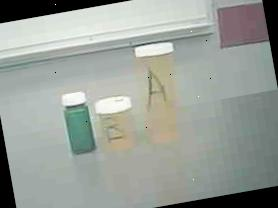Bottle A: (128, 34, 192, 148)
Bottle B: (91, 91, 142, 155)
Bottle C: (54, 86, 98, 161)
